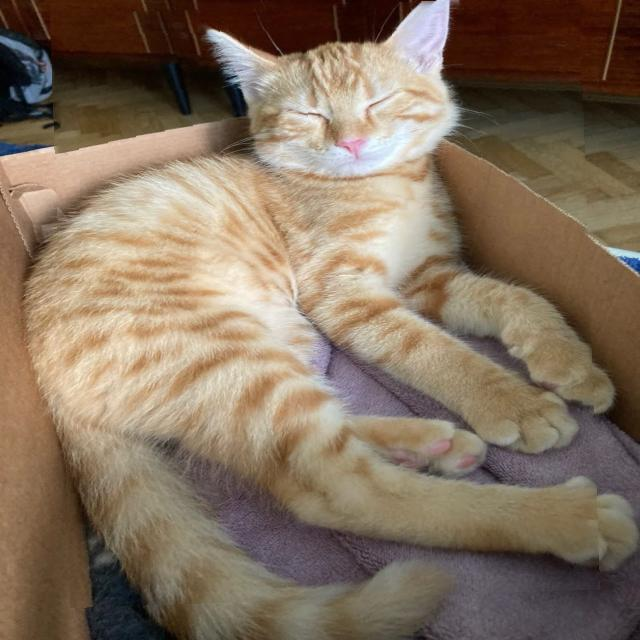red_cat: (55, 1, 596, 604)
